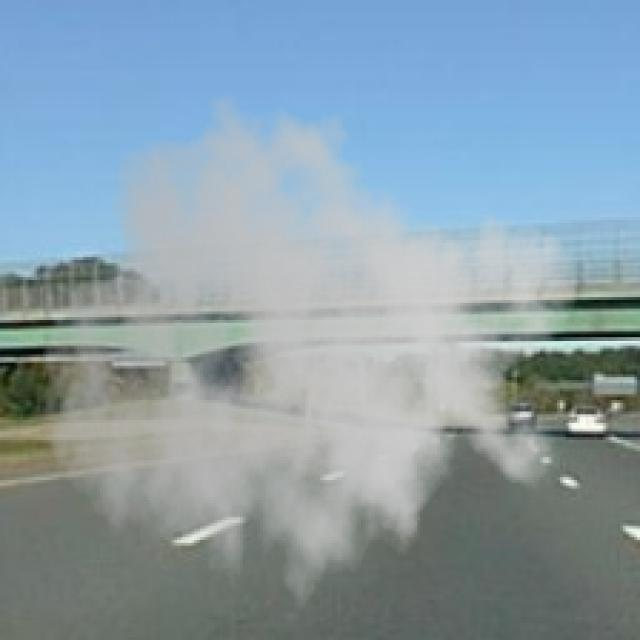Smoke: (40, 80, 580, 634)
